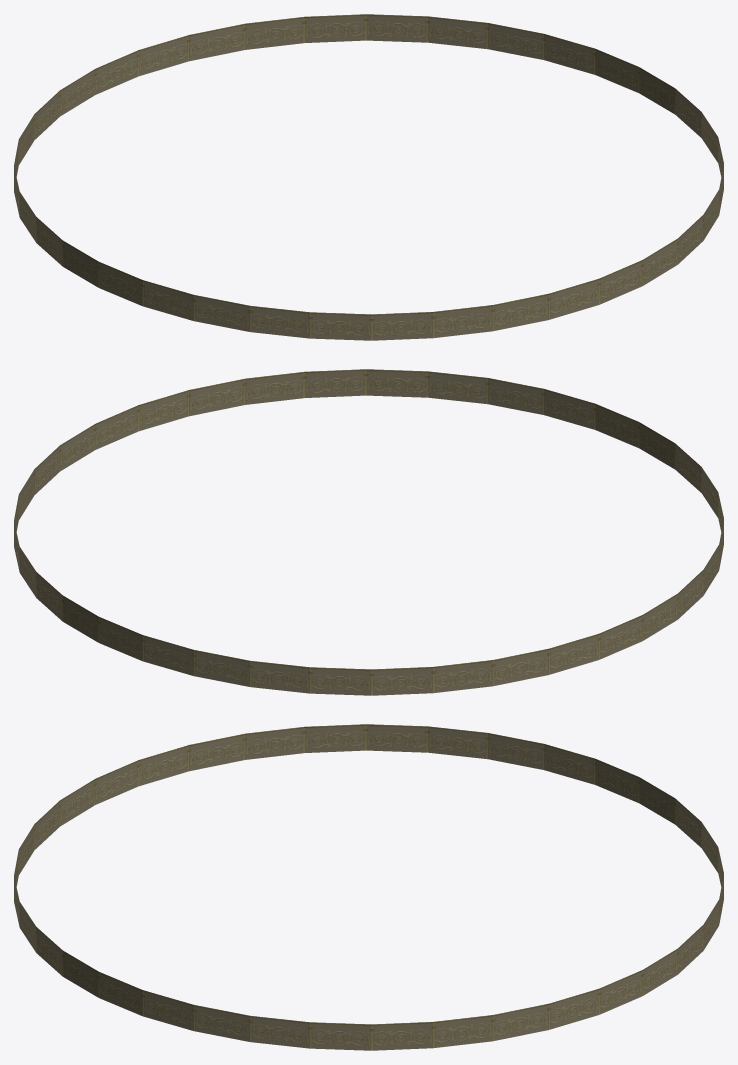
File: Railing.obj
3 views of the same model, one above another, from view 1: azimuth 30°, elevation 25°; view 2: azimuth 150°, elevation 25°; view 3: azimuth 270°, elevation 25° (orthographic).
Visible parts, largest first — view 1: Gelander014; view 2: Gelander014; view 3: Gelander014.
Boxes of the visible parts, x1=… form: Gelander014: x1=14, y1=14, x2=723, y2=340; Gelander014: x1=14, y1=369, x2=723, y2=695; Gelander014: x1=14, y1=724, x2=723, y2=1050.
Size of the model in its own units: 26.92 by 1.1 by 26.91.
Materials: 1 (1 with a texture image).
